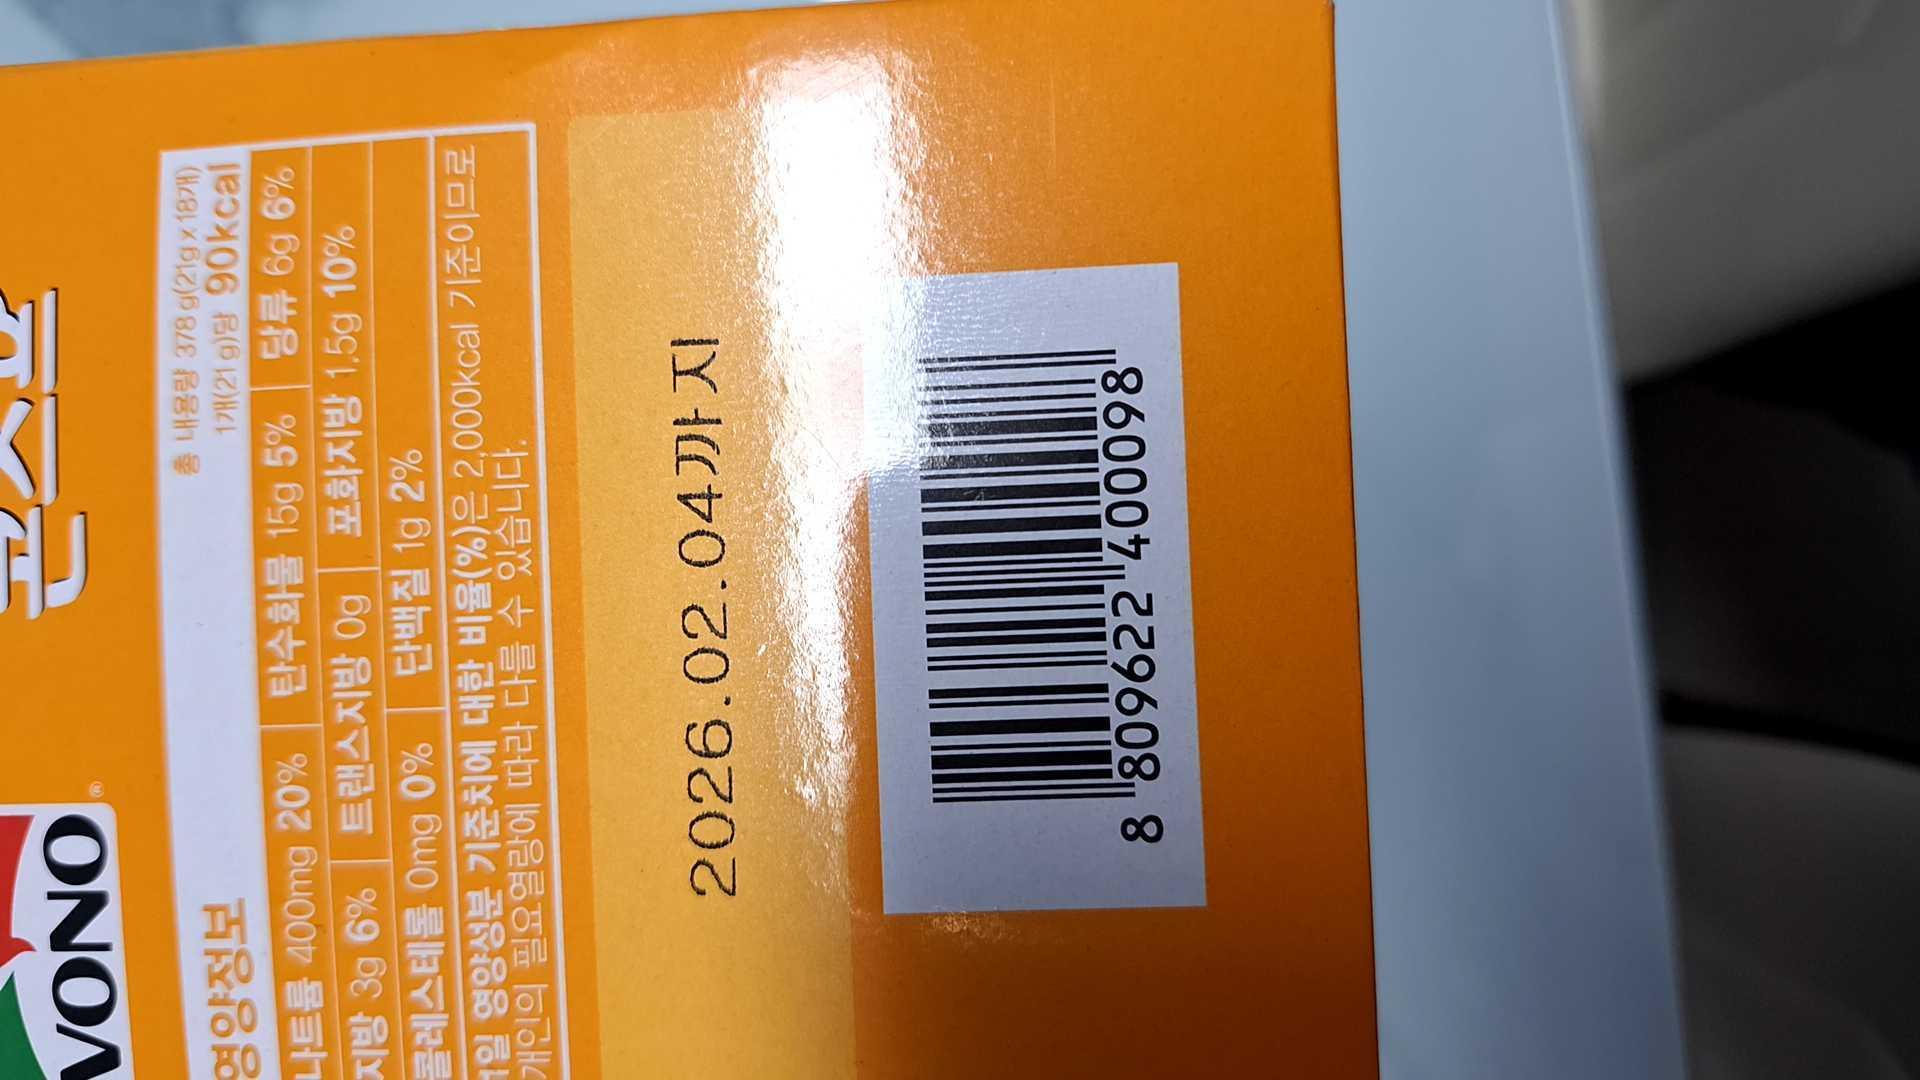cola-2000-2025-7-8: (884, 343, 1183, 873)
